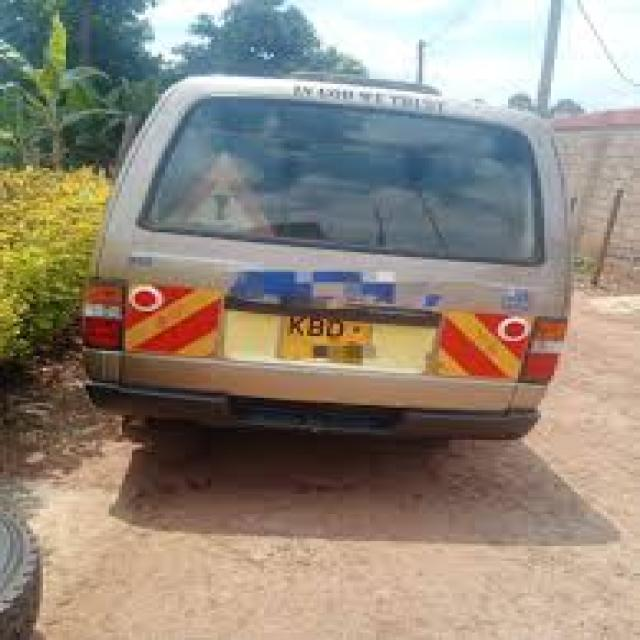matatu: (64, 31, 618, 499)
